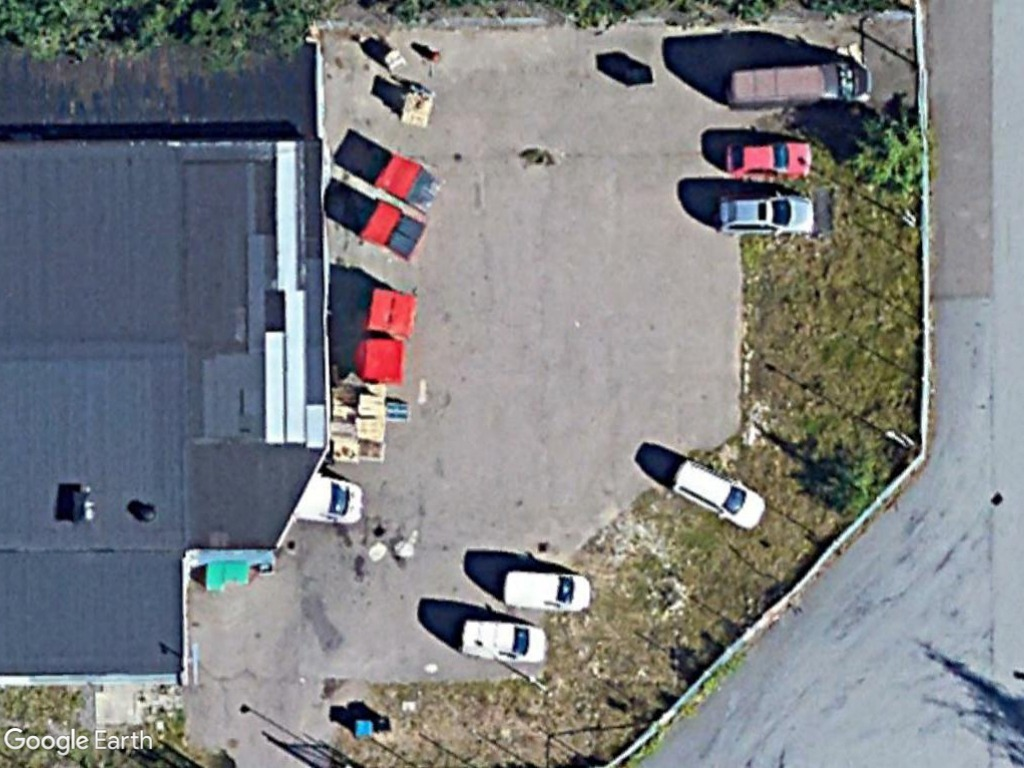car: (663, 457, 769, 532), (715, 188, 820, 242), (720, 138, 817, 184)
van: (719, 59, 876, 114), (458, 612, 551, 669), (500, 564, 596, 616)
